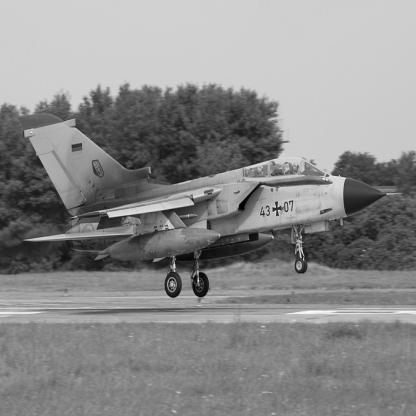Tornado: (18, 113, 405, 299)
